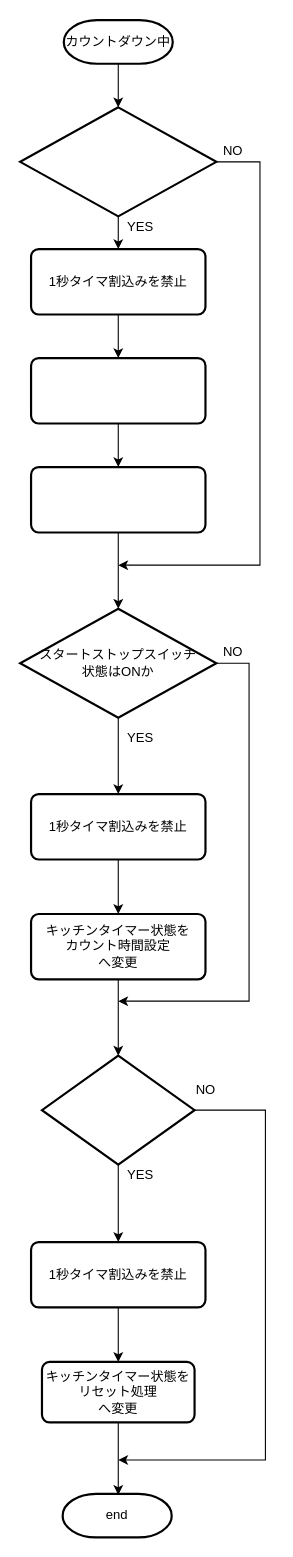
The diagram is 293 pixels wide and 1557 high, and some of its shapes have lost their labels. Each missing label, with the box of its shape:
カウントは00m00sか: (19, 106, 217, 217)
カウントダウン終了カウントを0へ初期化: (29, 356, 206, 424)
キッチンタイマー状態を カウントダウン終了 へ変更: (29, 465, 206, 533)
リセットスイッチ 状態はONか？: (40, 1054, 195, 1165)
